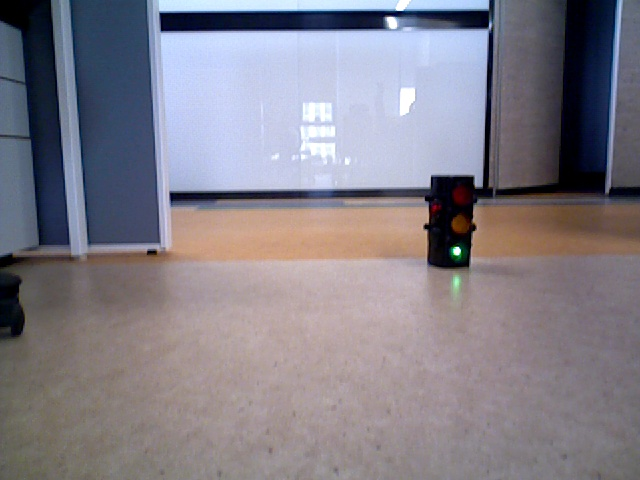green: (429, 178, 471, 262)
